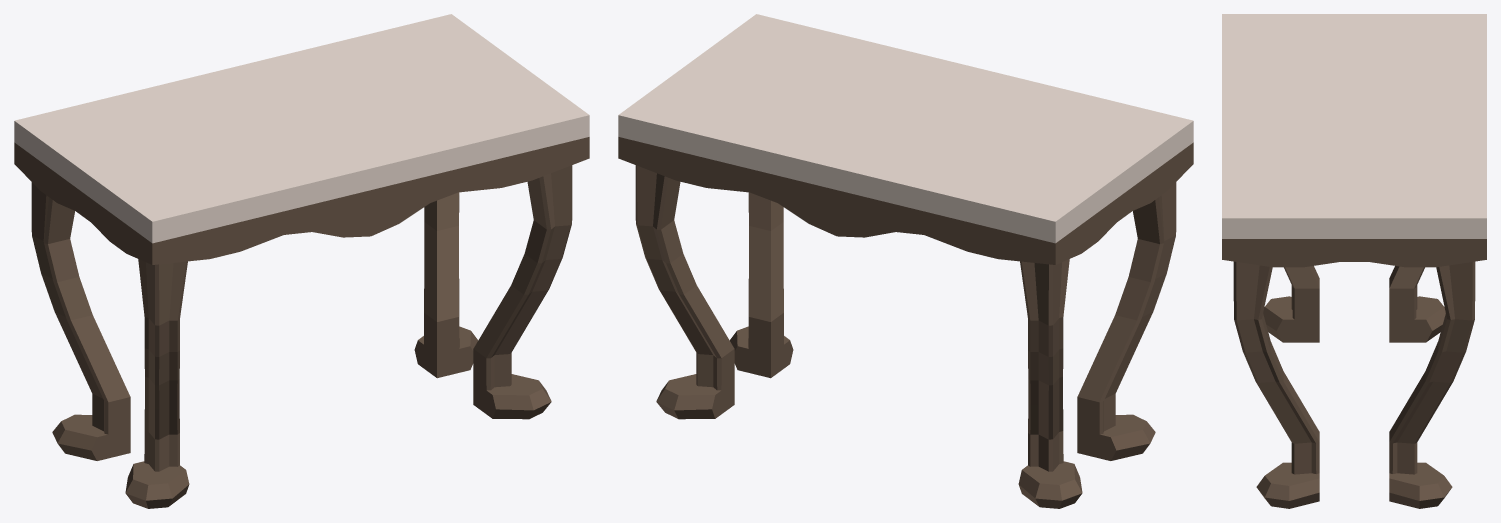
File: Table_6.fbx
3 views of the same model, side by side, from view 1: azimuth 30°, elevation 25°; view 2: azimuth 150°, elevation 25°; view 3: azimuth 270°, elevation 25° (orthographic). The views are drawn at different scales.
Visible parts, largest first — view 1: Table_6; view 2: Table_6; view 3: Table_6.
Part boxes in pixels (left/top/right/bottom): Table_6: left=14, top=14, right=589, bottom=508; Table_6: left=618, top=14, right=1193, bottom=508; Table_6: left=1222, top=14, right=1486, bottom=508.
Bounding box in the file's own units: 125 × 68.18 × 84.68.
